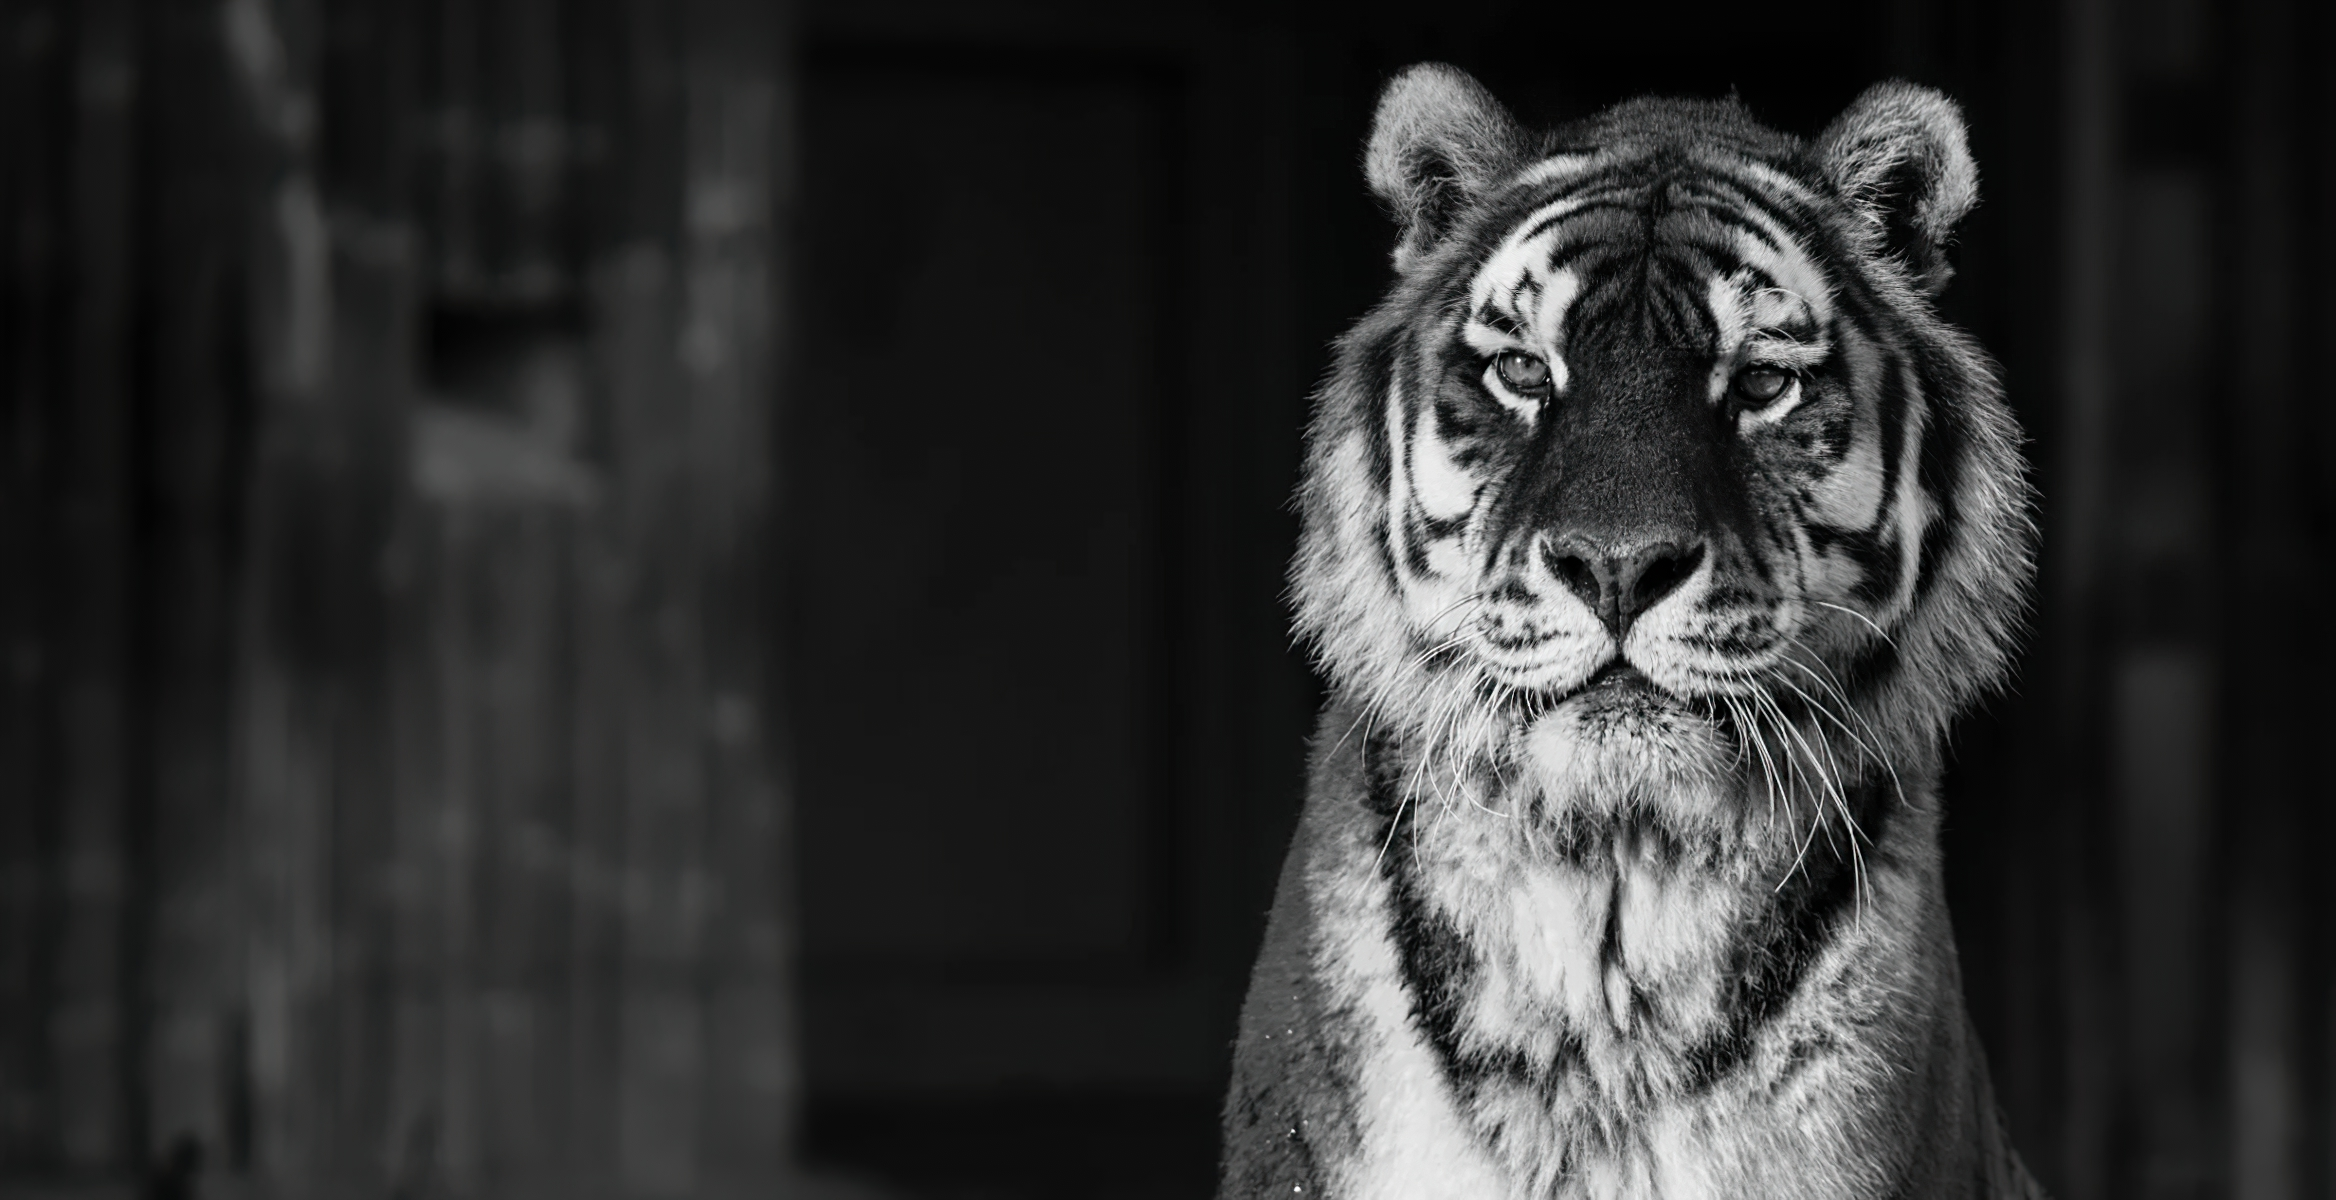tiger: (1213, 55, 2166, 1180)
